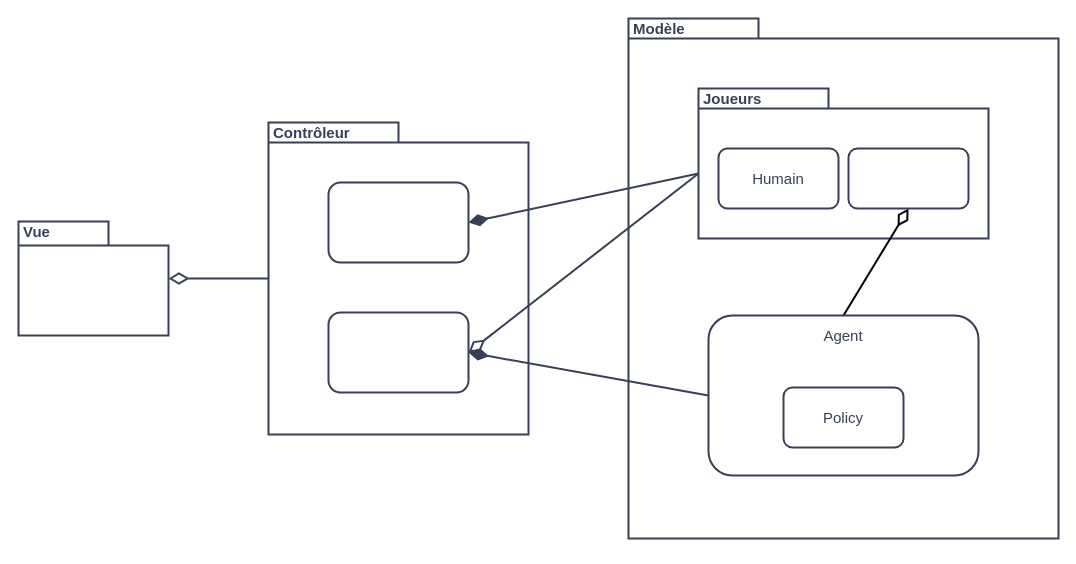
This 1076x564 diagram has some shape labels left out. Here are the shapes that lost their labels. From the top down, the centre of each, then its label:
At (x=908, y=178): "Robot".
At (x=398, y=222): "Contrôleur du Jeu".
At (x=398, y=352): "Contrôleur de IA".
